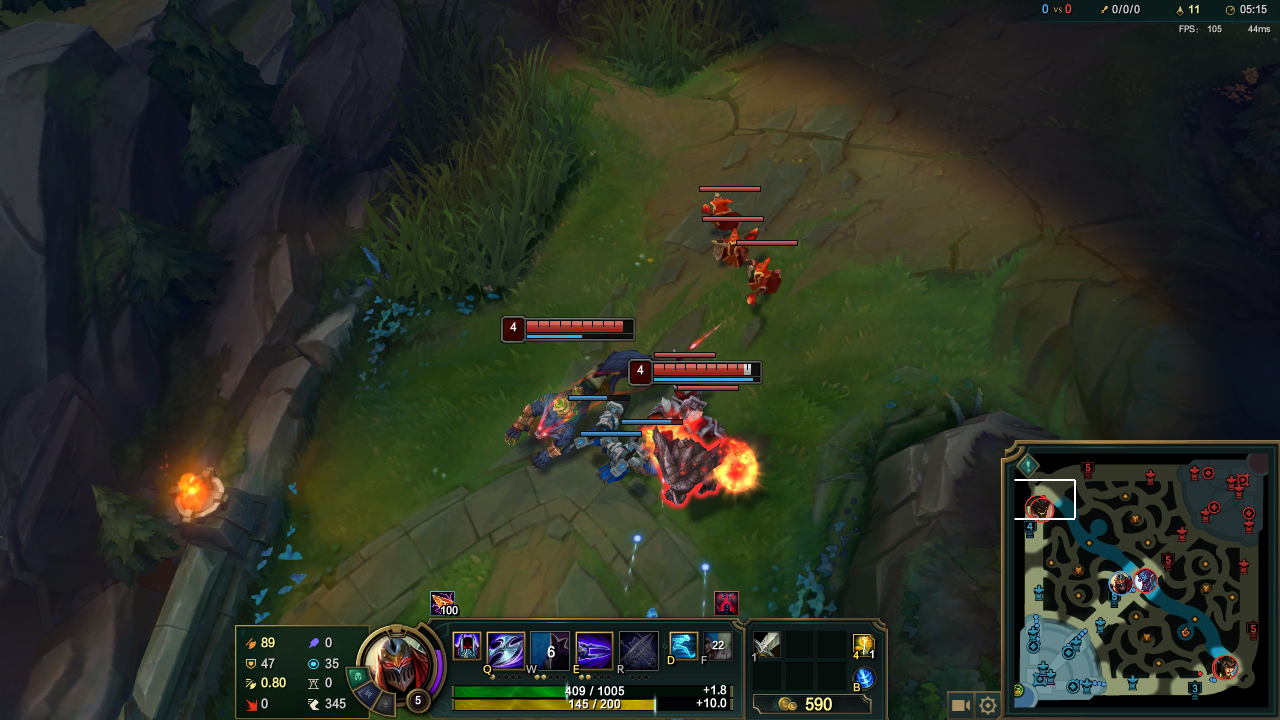DFYX: (652, 363, 762, 379), (519, 320, 634, 335)
